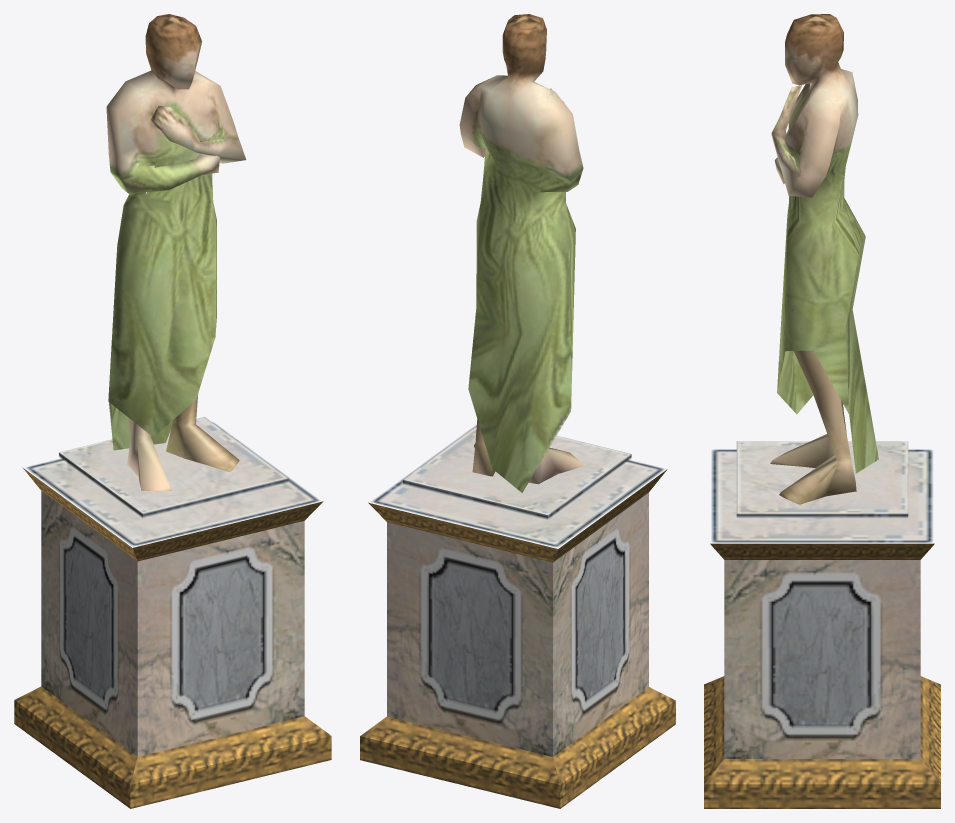
Rendered from rome_statue_2.glb.
3 renders of one model, left to right at view 1: azimuth 30°, elevation 25°; view 2: azimuth 150°, elevation 25°; view 3: azimuth 270°, elevation 25°, orthographic. The views are drawn at different scales.
Parts seen in each view (by area): view 1: rome_statue_2; view 2: rome_statue_2; view 3: rome_statue_2.
Boxes of the visible parts, x1,y1,x2,y2 form: rome_statue_2: (14,14,331,808); rome_statue_2: (360,14,675,808); rome_statue_2: (704,14,940,808).
Bounding box in the file's own units: 2.7 × 9.31 × 2.7.
Materials: 1 (1 with a texture image).
